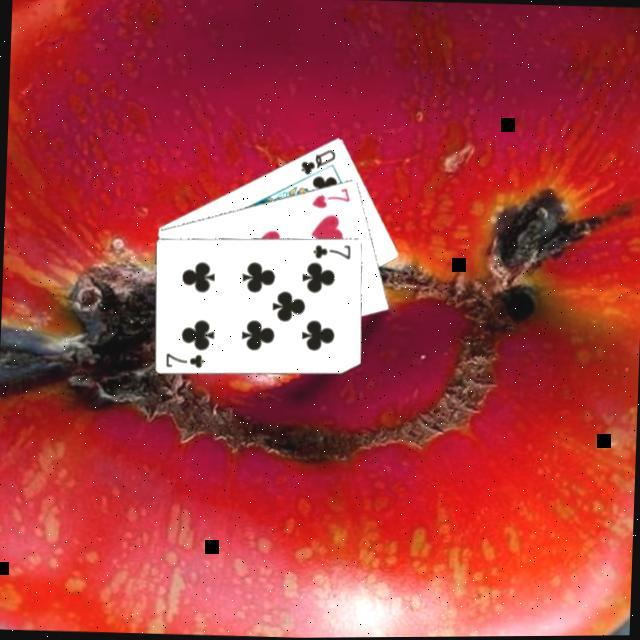7C: (310, 241, 355, 263), (163, 350, 208, 372)
7H: (308, 184, 354, 214)
QC: (298, 146, 338, 178)
